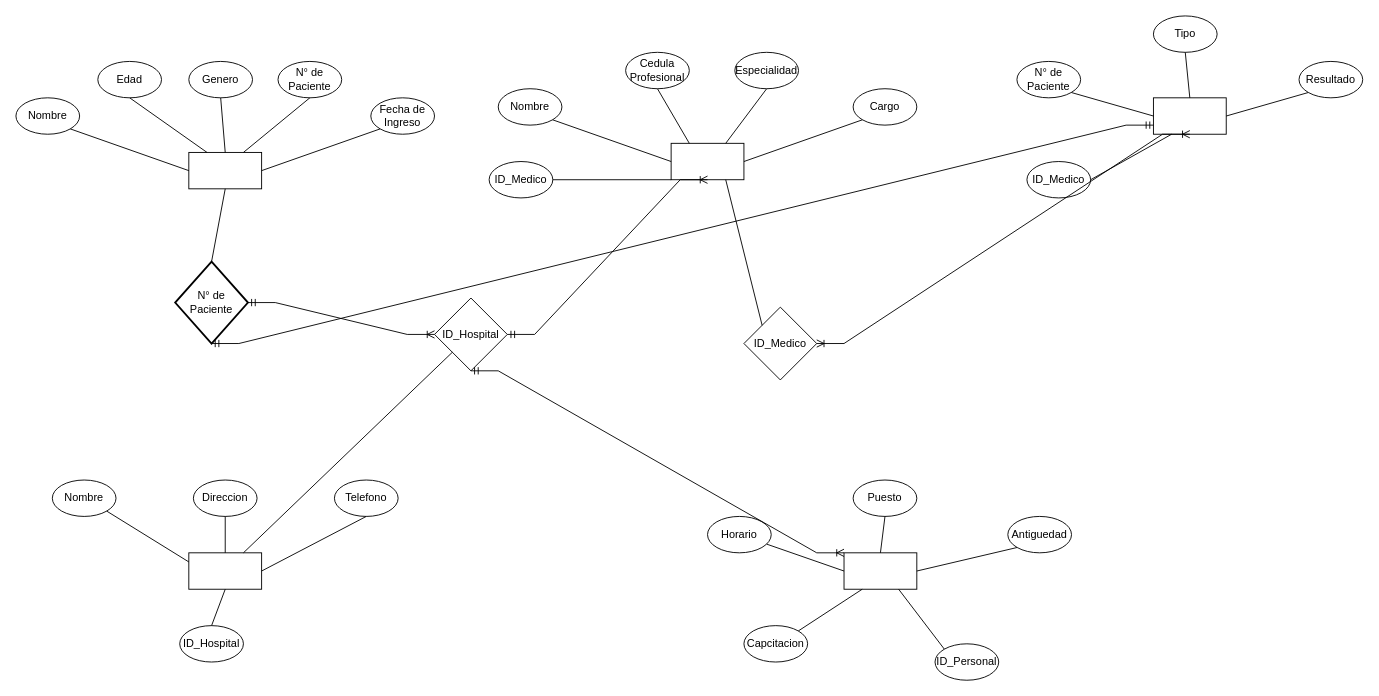
The diagram is 1379 pixels wide and 696 high, and some of its shapes have lost their labels. Each missing label, with the centre of its shape:
Analisis: the point at 1189,115
Hospital: the point at 225,570
Medico: the point at 707,161
Paciente: the point at 225,170
Personal: the point at 880,570
